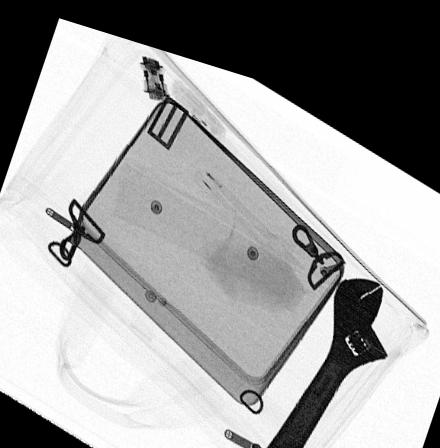Wrench: (253, 256, 388, 448)
